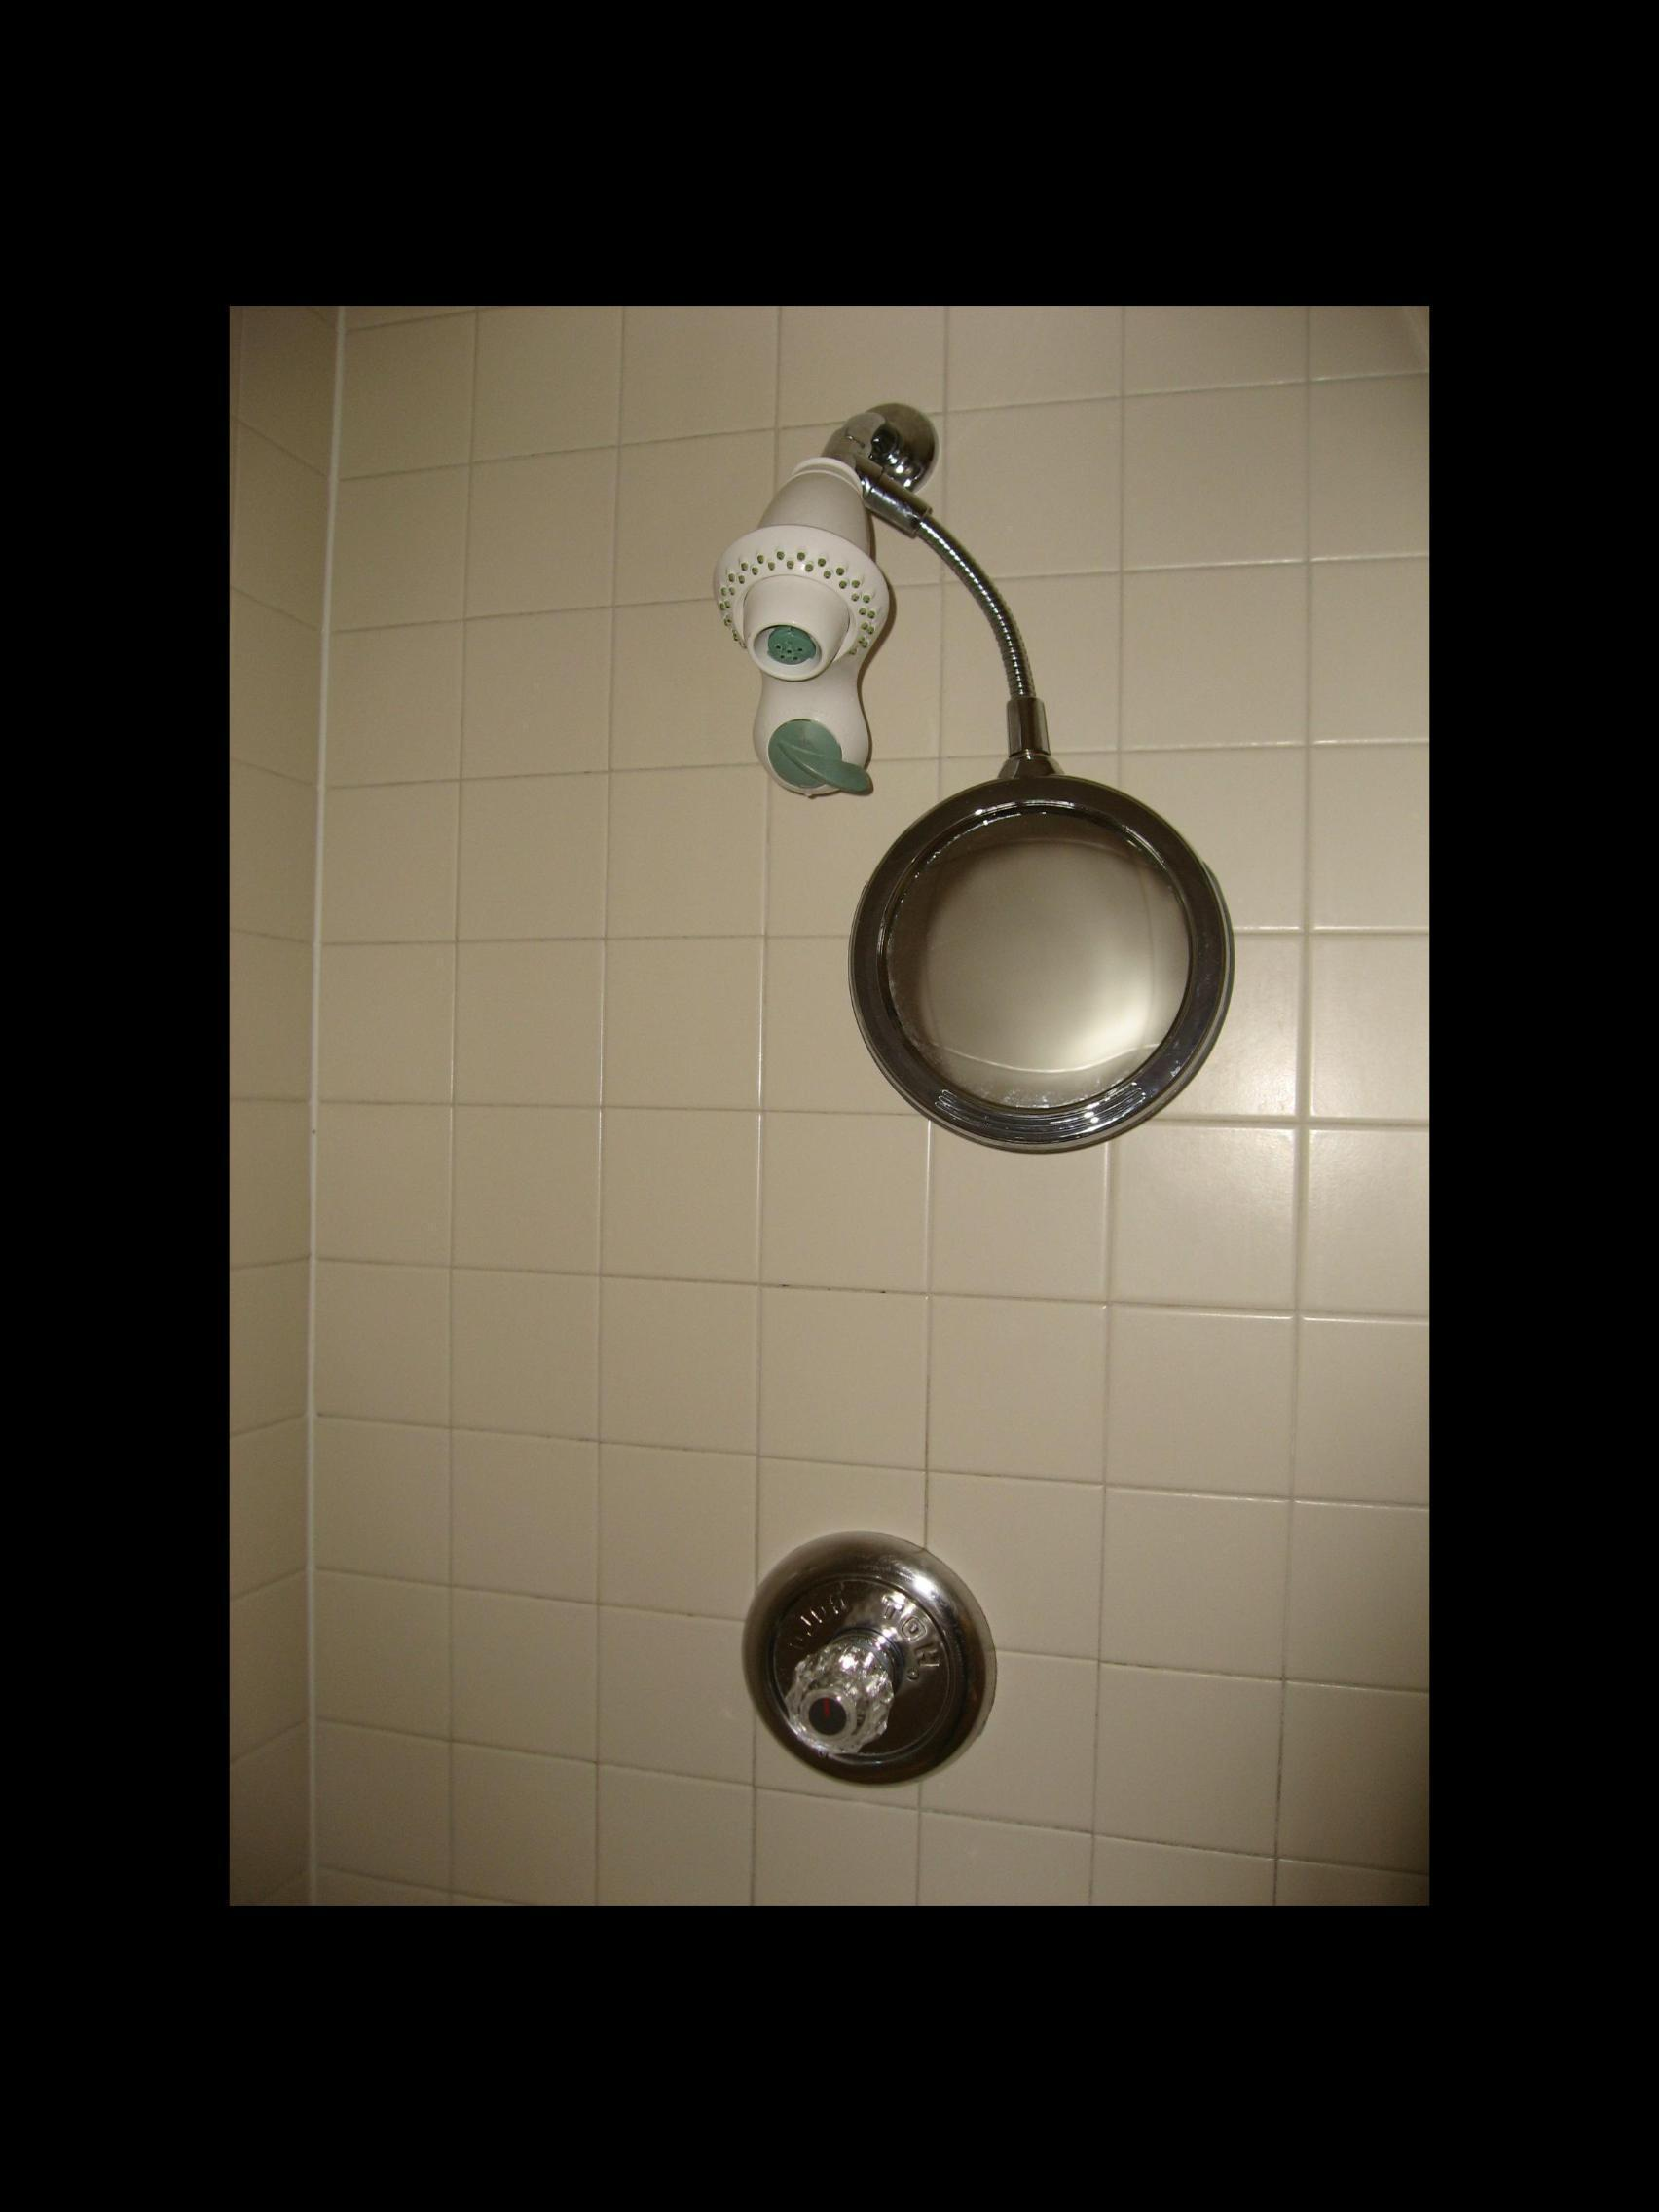Ducha: (303, 343, 1413, 1876)
